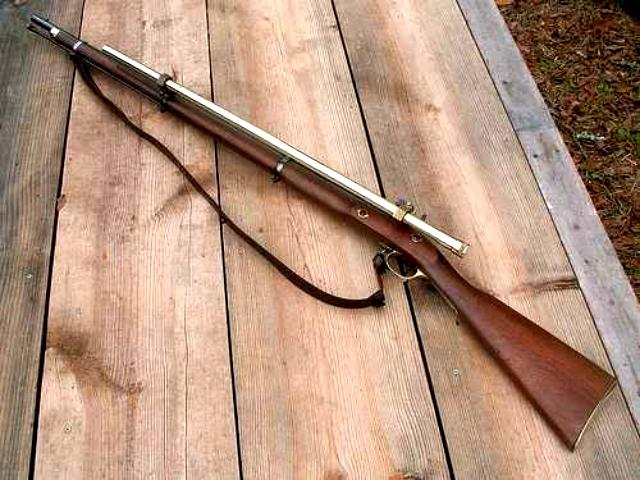rifle: (31, 10, 631, 464)
